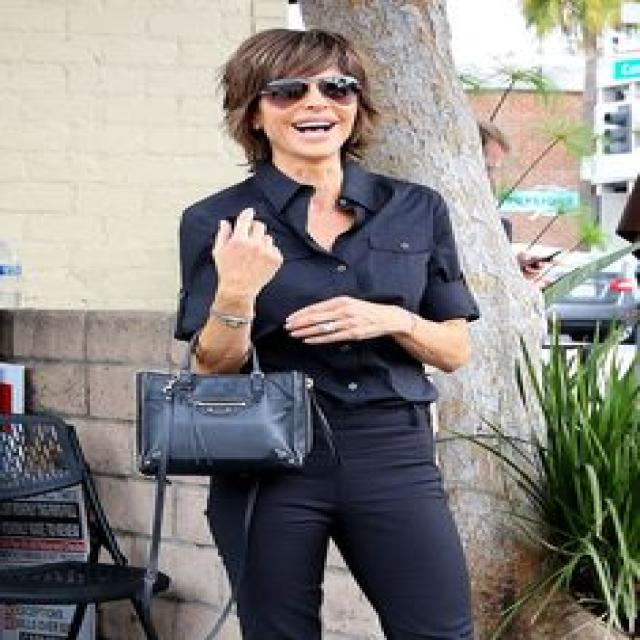handbag: (133, 335, 315, 482)
